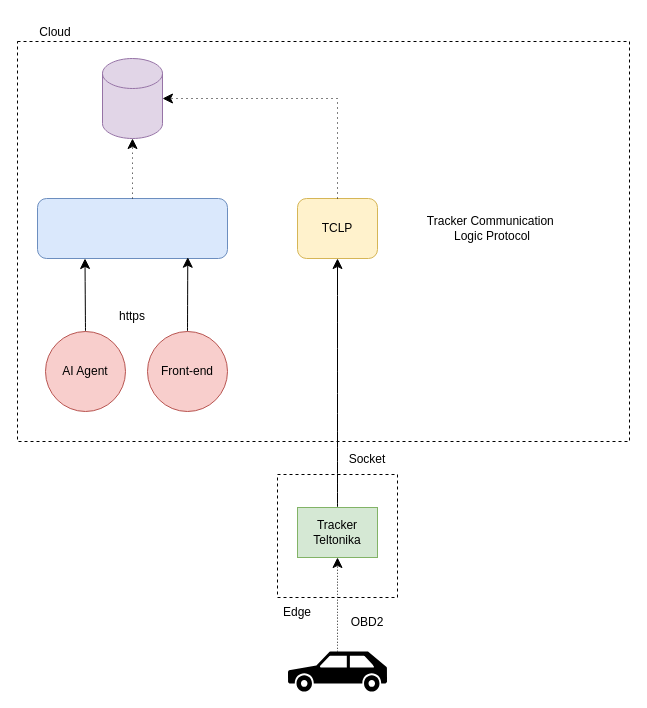
This 647x708 diagram has some shape labels left out. The shapes that lost their labels are listed below. From the top down, each one's box as (x1, y1, x2, y2) in pixels, then its label:
(102, 58, 162, 138): DB
(36, 198, 228, 258): API RESTful
